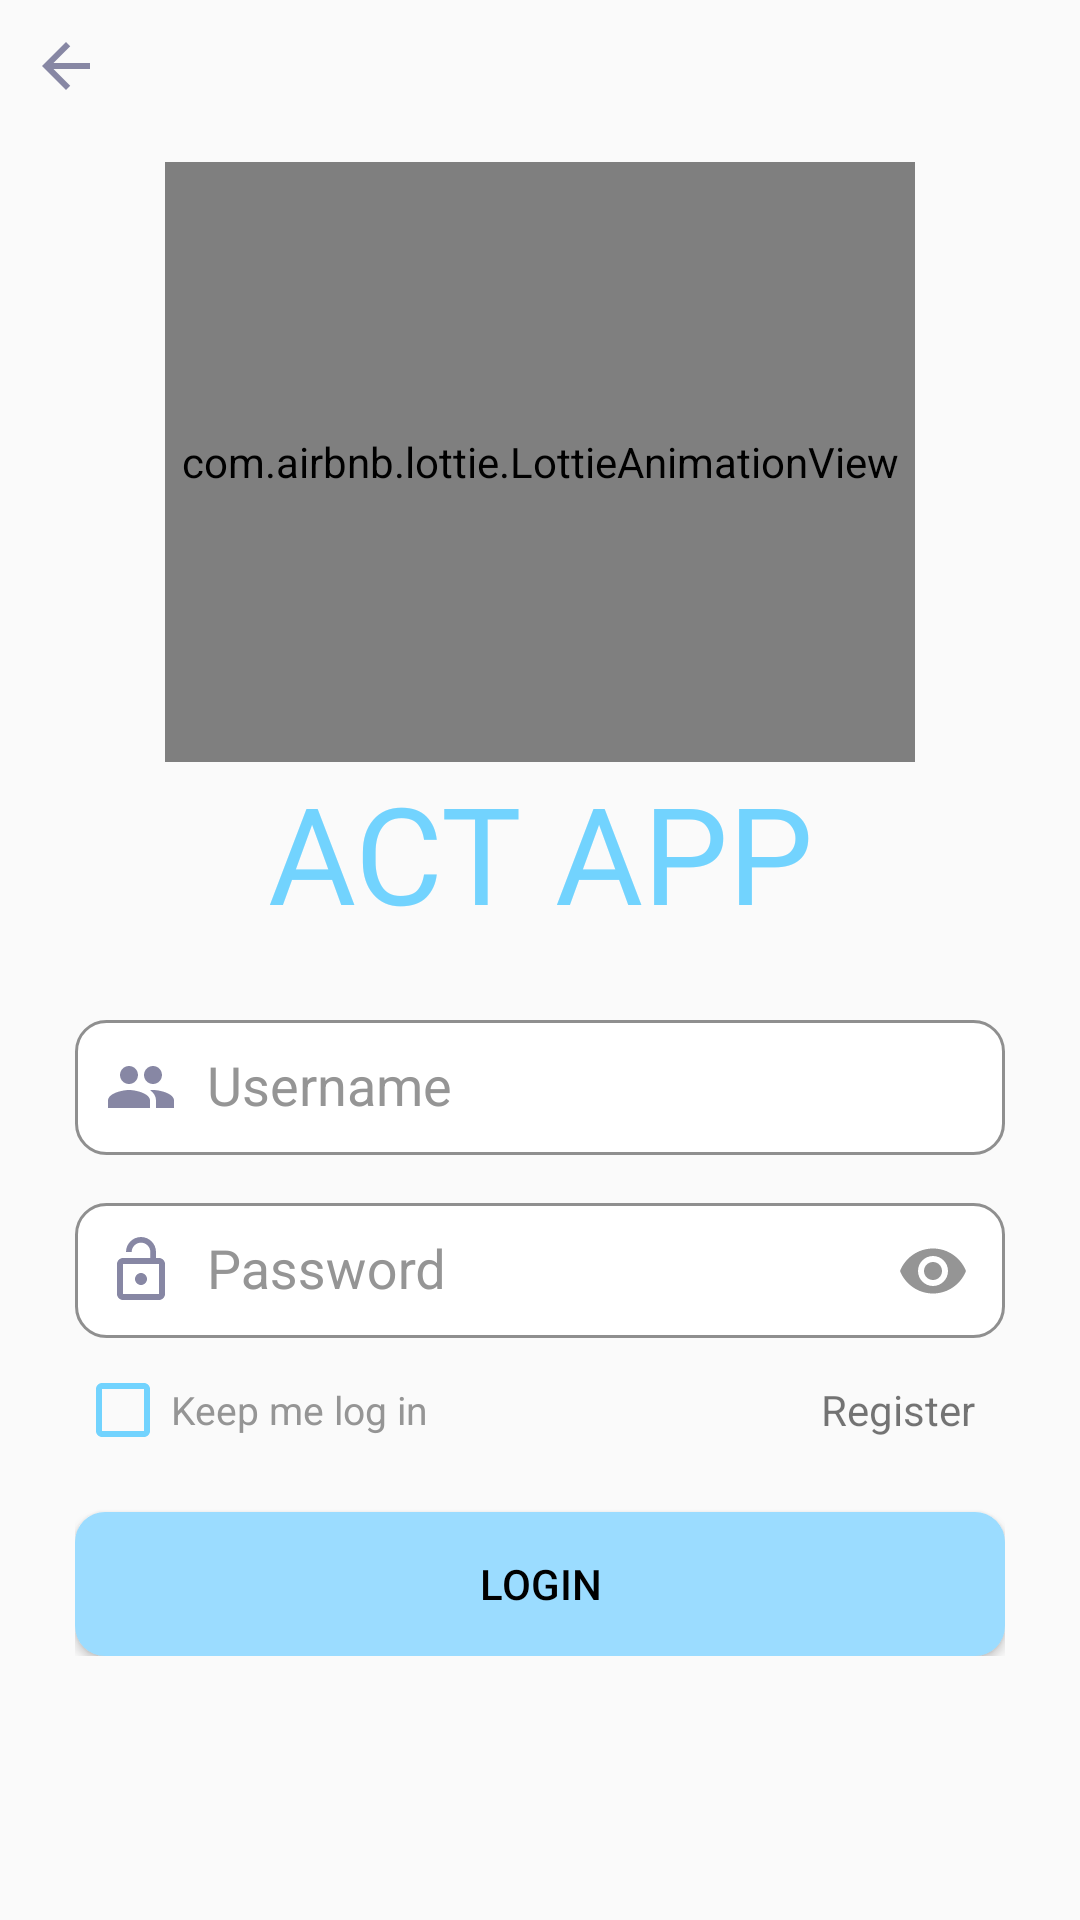

Icons on this 1080*1920 Android screen, each with its box as bbox=[x1, y1, x2, y2]:
back: bbox=[42, 42, 90, 90]
